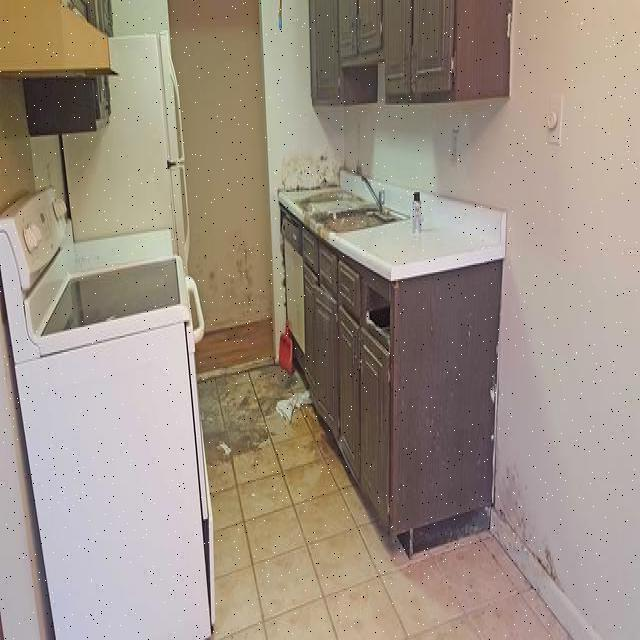dampness: (204, 337, 302, 501)
